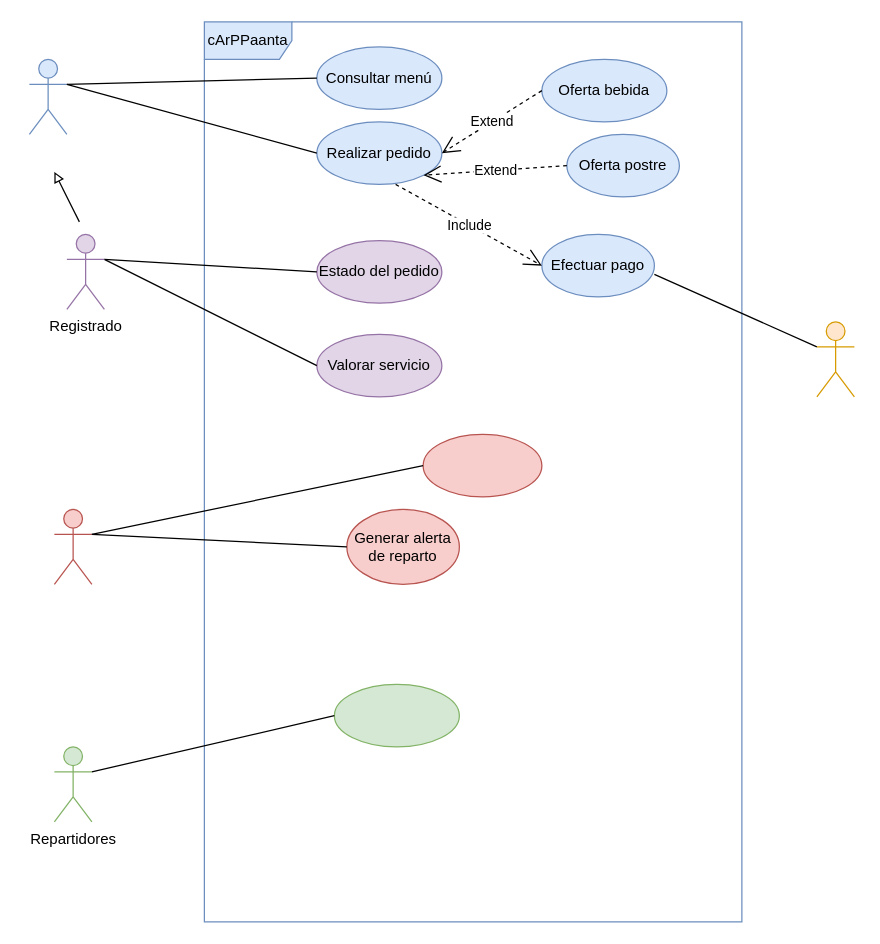
Image size: 880x944. Some labels were removed from this diagram. Here are the shapes that lost their labels. From the top down, the centre of each, then its label:
At point (47, 96): "Clientes".
At point (835, 359): "Paypal".
At point (482, 465): "Gestionar pedidos".
At point (72, 546): "Encargados".
At point (396, 715): "Gestionan repartos".
